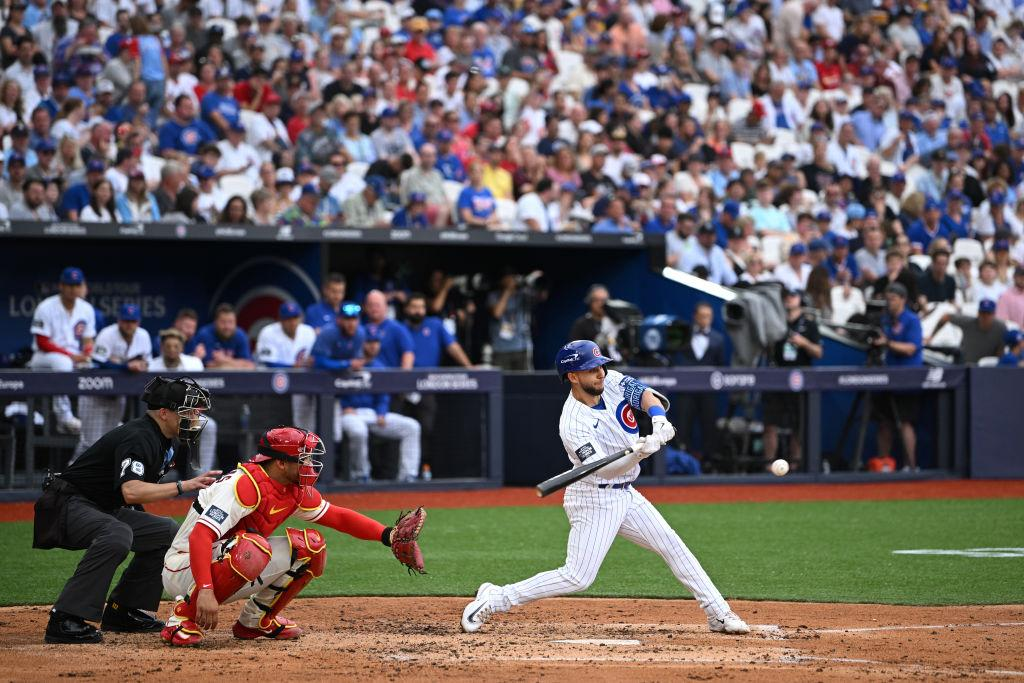baseball: (770, 458, 789, 477)
